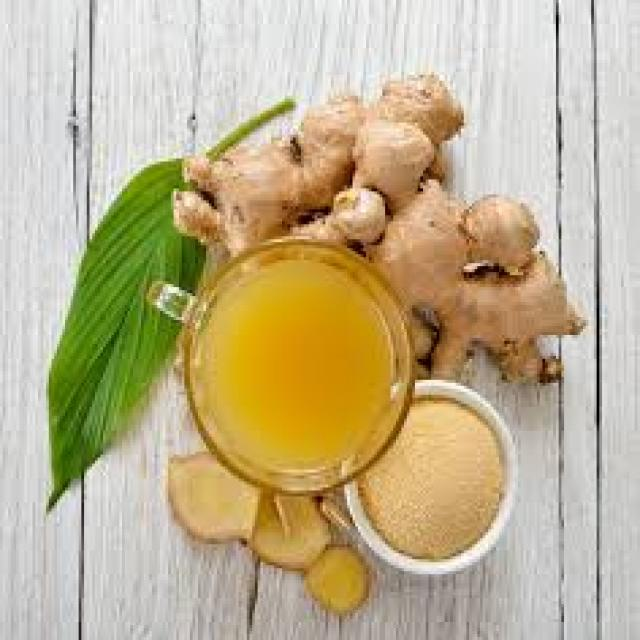ginger: (191, 79, 594, 365)
